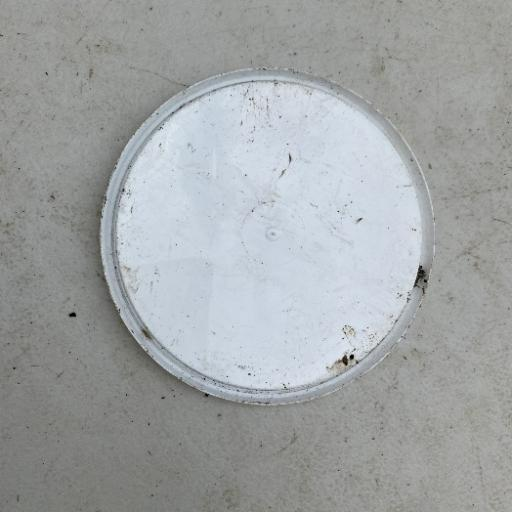Plastic: (97, 66, 436, 406)
